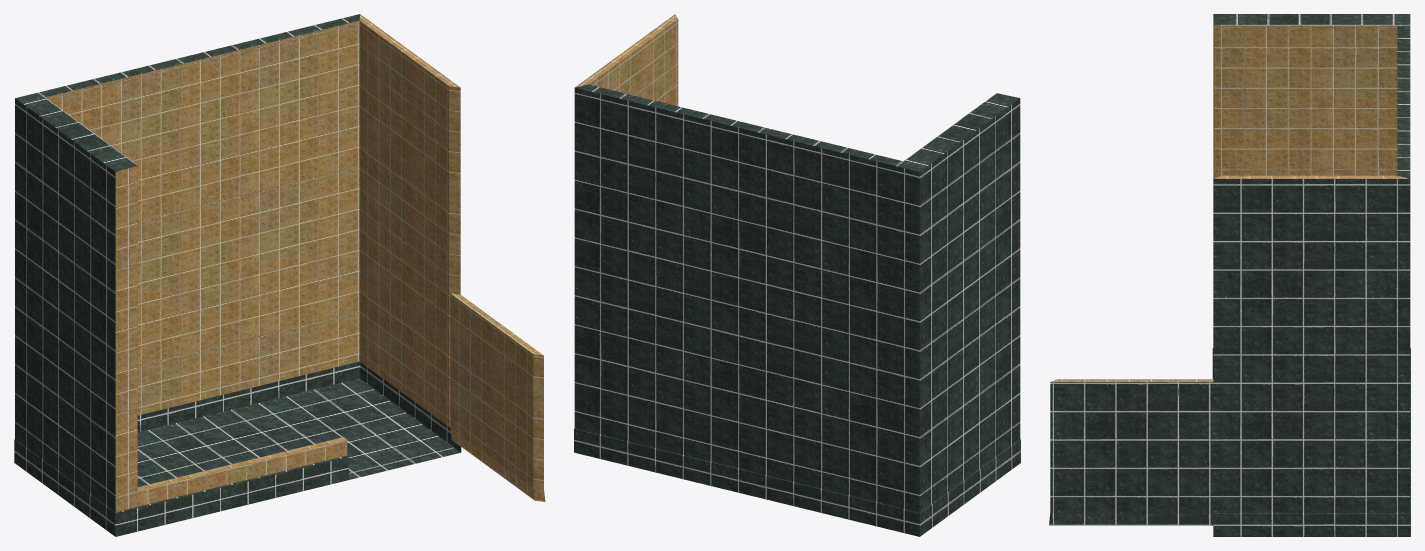
Rendered from FP424:polySurface111_bbb097dd.obj.
3 renders of one model, left to right at view 1: azimuth 30°, elevation 25°; view 2: azimuth 150°, elevation 25°; view 3: azimuth 270°, elevation 25°, orthographic. The views are drawn at different scales.
Parts seen in each view (by area): view 1: FP424:polySurface111_bbb097dd; view 2: FP424:polySurface111_bbb097dd; view 3: FP424:polySurface111_bbb097dd.
Boxes of the visible parts, left/top/right/bottom form: FP424:polySurface111_bbb097dd: left=14, top=14, right=545, bottom=536; FP424:polySurface111_bbb097dd: left=574, top=14, right=1020, bottom=536; FP424:polySurface111_bbb097dd: left=1049, top=14, right=1410, bottom=536.
Size of the model in its own units: 2.51 by 2.52 by 2.31.
